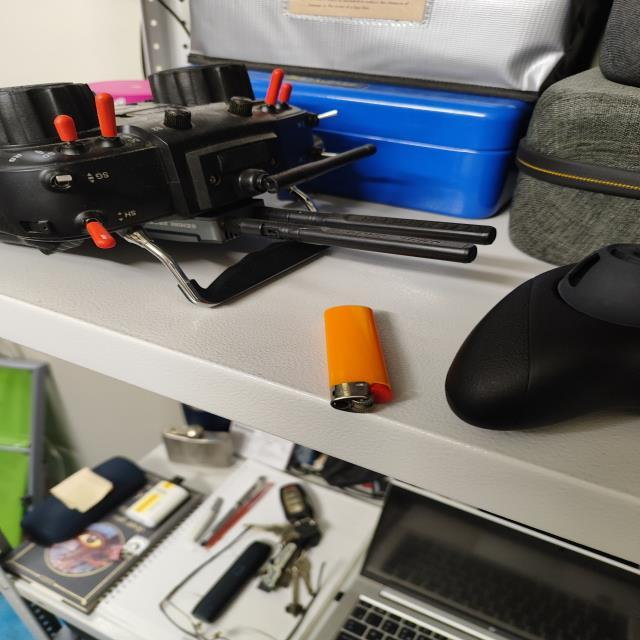lighter: (324, 305, 392, 412)
